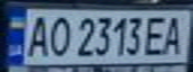1: (112, 14, 130, 56)
2: (72, 14, 96, 58)
3: (124, 14, 148, 56), (93, 14, 112, 57)
A: (21, 12, 54, 59), (160, 12, 190, 57)
E: (142, 12, 169, 57)
O: (45, 14, 72, 58)
